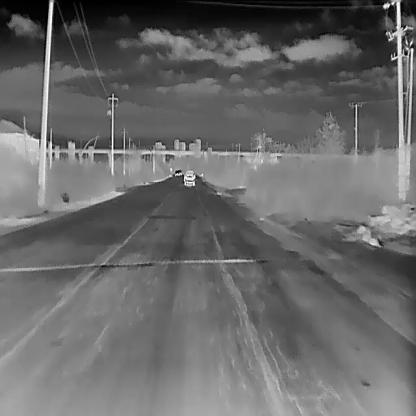car: (183, 169, 194, 186), (174, 169, 179, 175)
